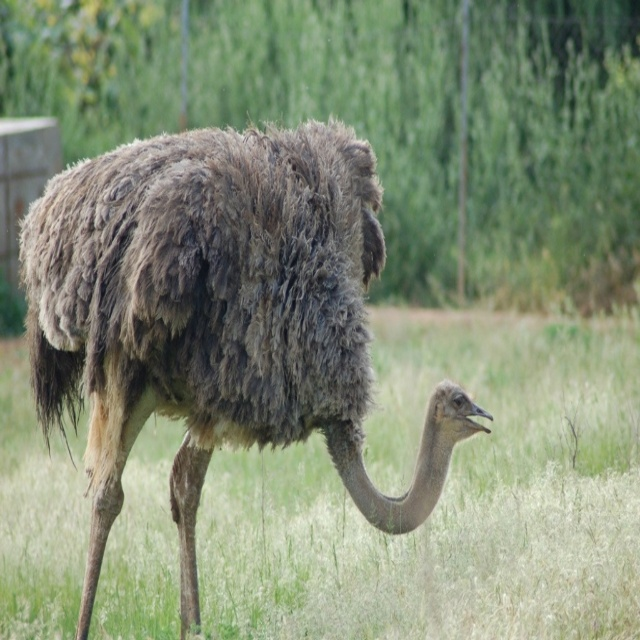Ostrich: (10, 107, 500, 637)
